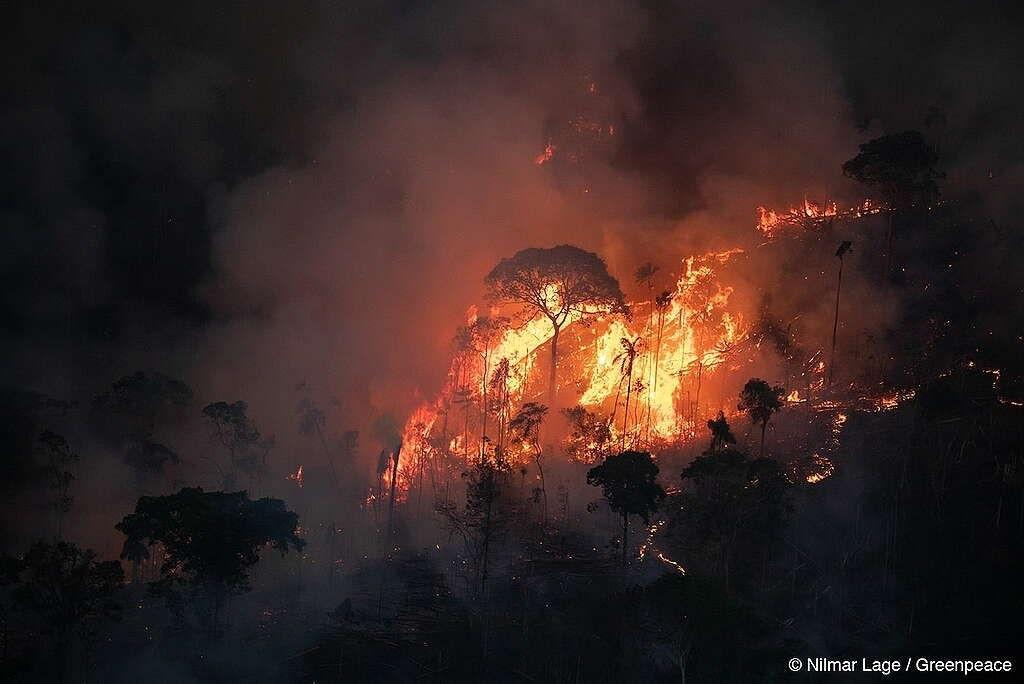fire: (399, 245, 775, 487), (777, 335, 904, 420), (755, 171, 876, 241), (526, 102, 616, 176), (275, 465, 305, 488)
smoke: (121, 138, 391, 459), (24, 402, 189, 572), (341, 25, 494, 195)
